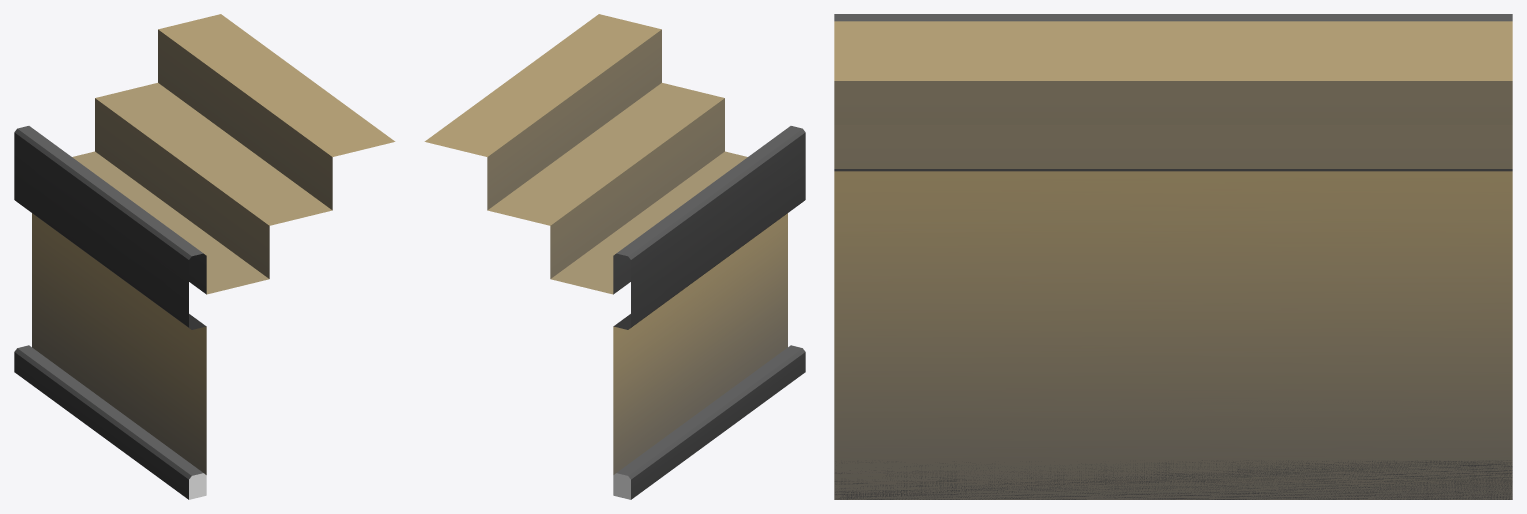
File: StraightSmooth.fbx
3 views of the same model, side by side, from view 1: azimuth 30°, elevation 25°; view 2: azimuth 150°, elevation 25°; view 3: azimuth 270°, elevation 25° (orthographic). The views are drawn at different scales.
Visible parts, largest first — view 1: Cube.009; view 2: Cube.009; view 3: Cube.009.
Boxes of the visible parts, x1=… form: Cube.009: x1=14, y1=14, x2=395, y2=499; Cube.009: x1=424, y1=14, x2=805, y2=499; Cube.009: x1=834, y1=14, x2=1512, y2=499.
Size of the model in its own units: 547 by 778 by 800.
